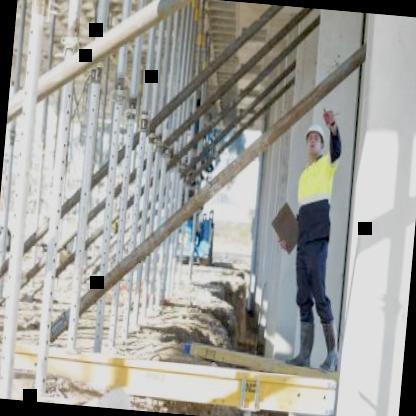helmet: (300, 113, 330, 166)
